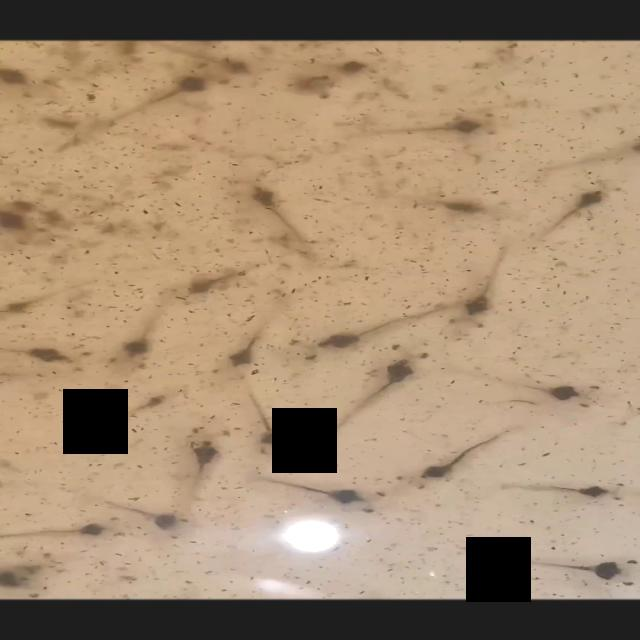shrimp: (391, 407, 555, 490), (83, 57, 234, 145), (322, 330, 432, 442), (290, 296, 458, 366), (441, 356, 615, 413), (223, 163, 326, 250), (217, 287, 295, 388), (332, 104, 510, 148), (473, 541, 640, 587), (247, 470, 411, 516), (217, 386, 304, 470), (102, 288, 178, 383), (449, 233, 518, 335), (96, 371, 196, 434), (77, 488, 207, 534), (532, 178, 627, 240), (175, 253, 274, 310), (171, 419, 234, 505), (482, 472, 633, 505), (380, 182, 498, 222), (0, 510, 129, 542), (147, 45, 277, 75)
